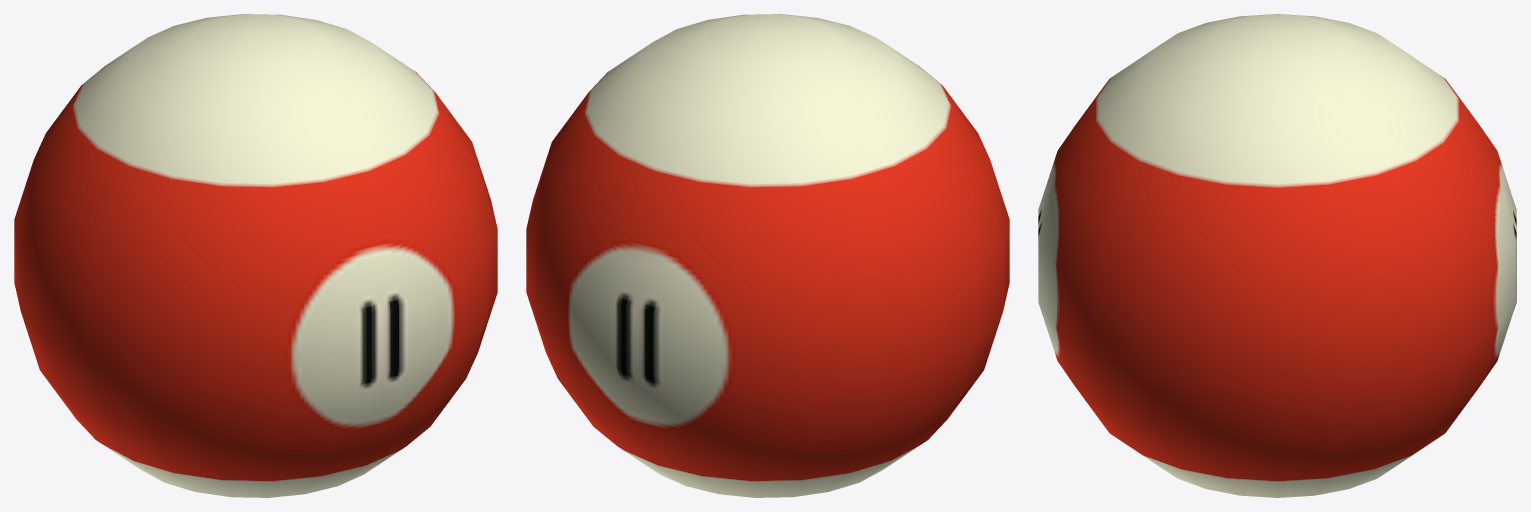
The model's file is Ball_11.FBX.
3 views of the same model, side by side, from view 1: azimuth 30°, elevation 25°; view 2: azimuth 150°, elevation 25°; view 3: azimuth 270°, elevation 25° (orthographic).
Parts seen in each view (by area): view 1: Ball_11; view 2: Ball_11; view 3: Ball_11.
Part boxes in pixels (bbox=[...]): Ball_11: bbox=[14, 14, 497, 497]; Ball_11: bbox=[526, 14, 1009, 497]; Ball_11: bbox=[1038, 14, 1516, 497].
Bounding box in the file's own units: 5.64 × 5.7 × 5.58.
